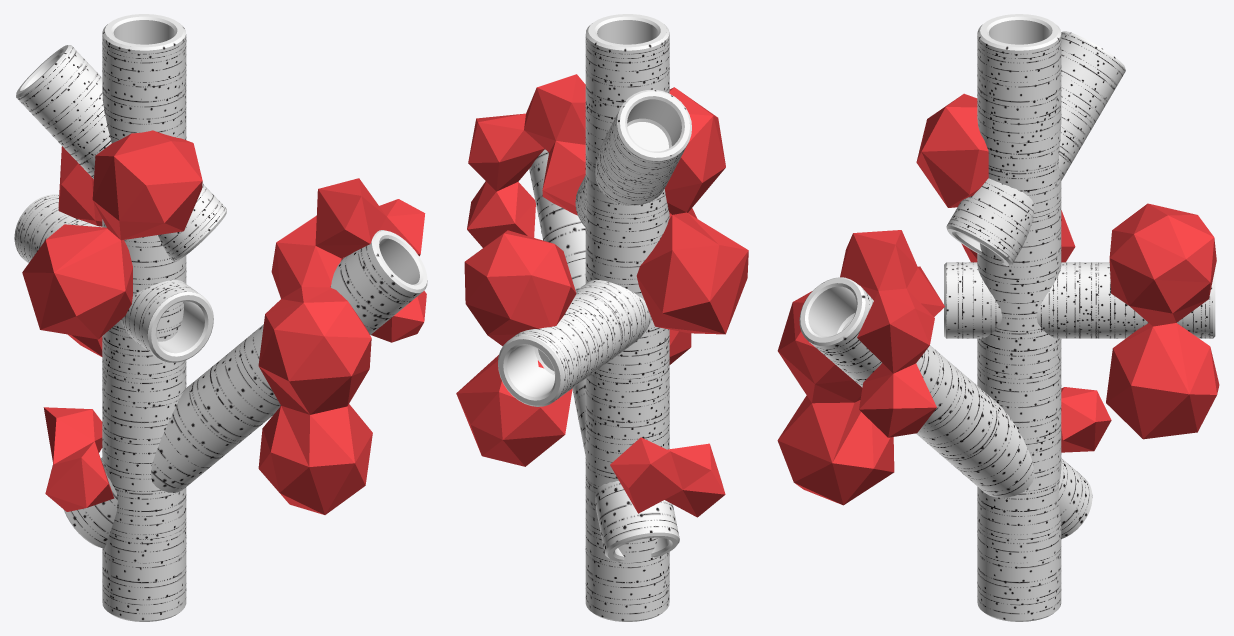
The model's file is treeC5.fbx.
3 views of the same model, side by side, from view 1: azimuth 30°, elevation 25°; view 2: azimuth 150°, elevation 25°; view 3: azimuth 270°, elevation 25° (orthographic).
Visible parts, largest first — view 1: Cylinder.021; view 2: Cylinder.021; view 3: Cylinder.021.
Boxes of the visible parts, box(x1,y1,x2,y2) form: Cylinder.021: box(14, 14, 427, 621); Cylinder.021: box(456, 14, 748, 621); Cylinder.021: box(777, 14, 1219, 621).
Size of the model in its own units: 277 by 468 by 326.
